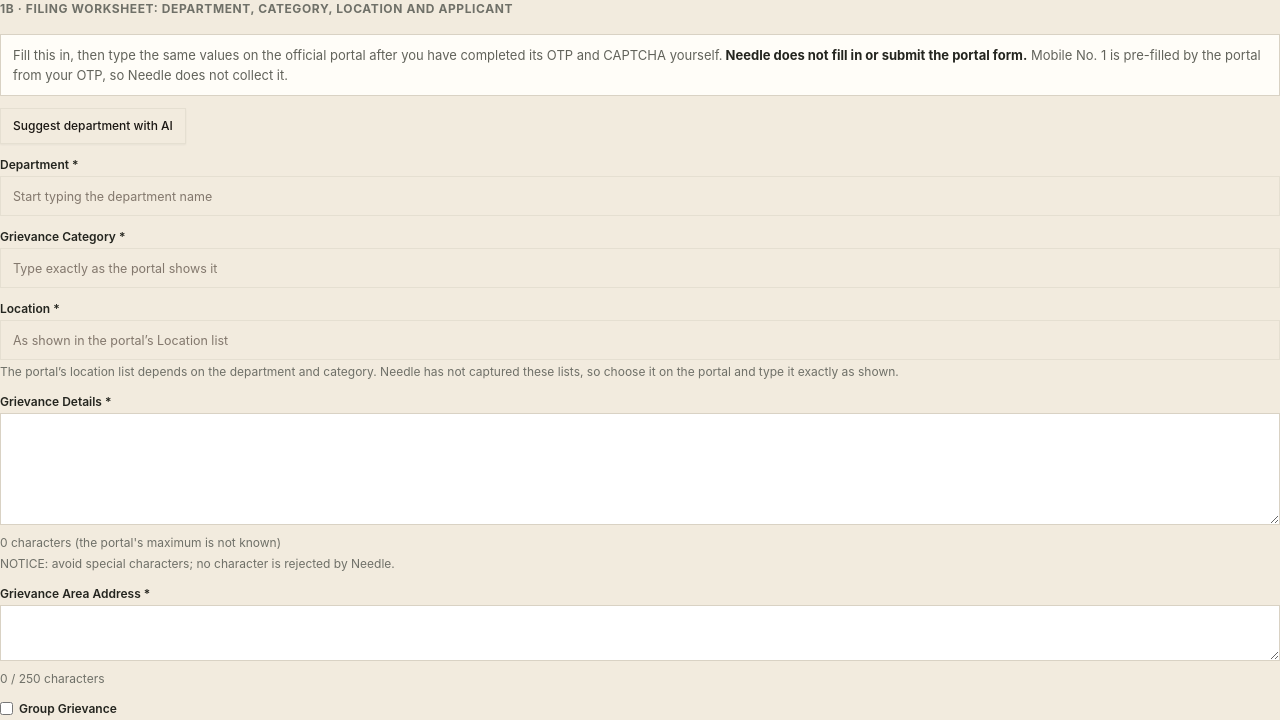
Test case: DelhiFilingWorksheet › loads the captured categories for a department and shows the escalation chain and days
In the field labelled "Department *": (640, 196) [0,176,1279,216], type "Delhi Police"
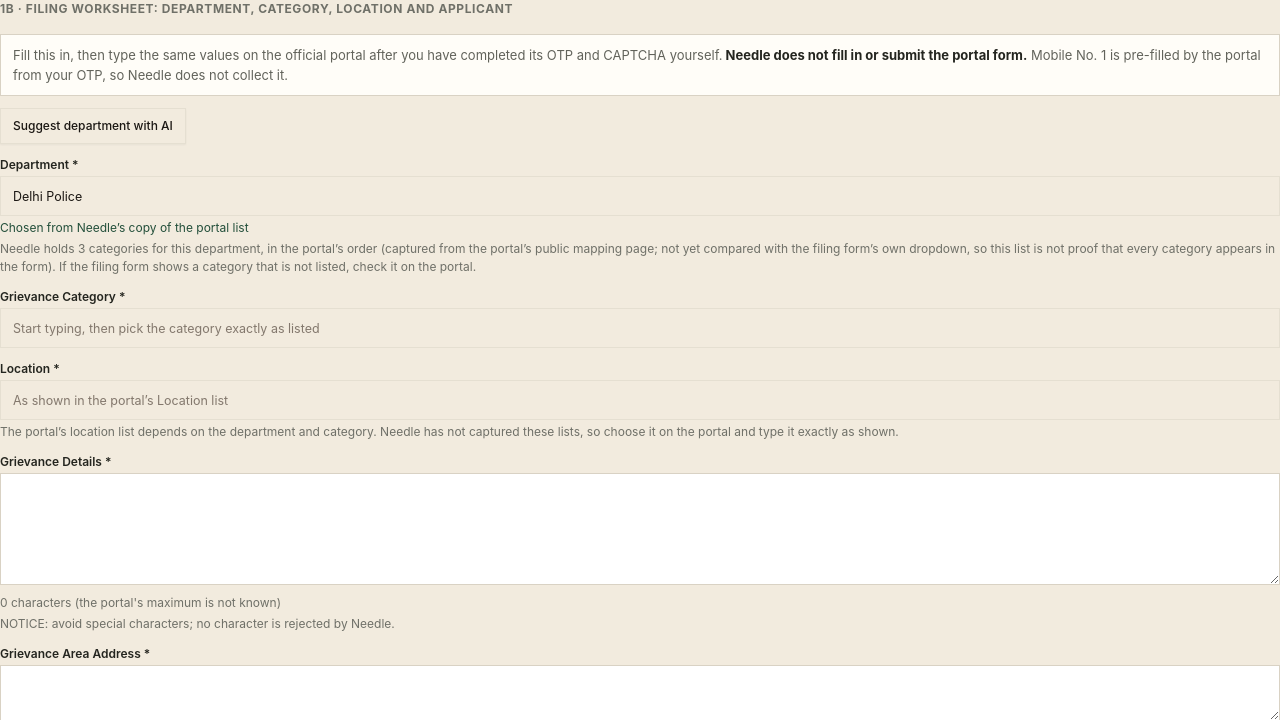
Expected: the text with test id "delhi-fw-dept-status" shows "holds 3 categories", [0,241,1275,274]
Expected: the text with test id "delhi-fw-dept-status" shows "not yet compared with the filing form", [0,241,1275,274]
In the field labelled "Grievance Category *": (640, 328) [0,308,1279,348], type "Abuse of Power"
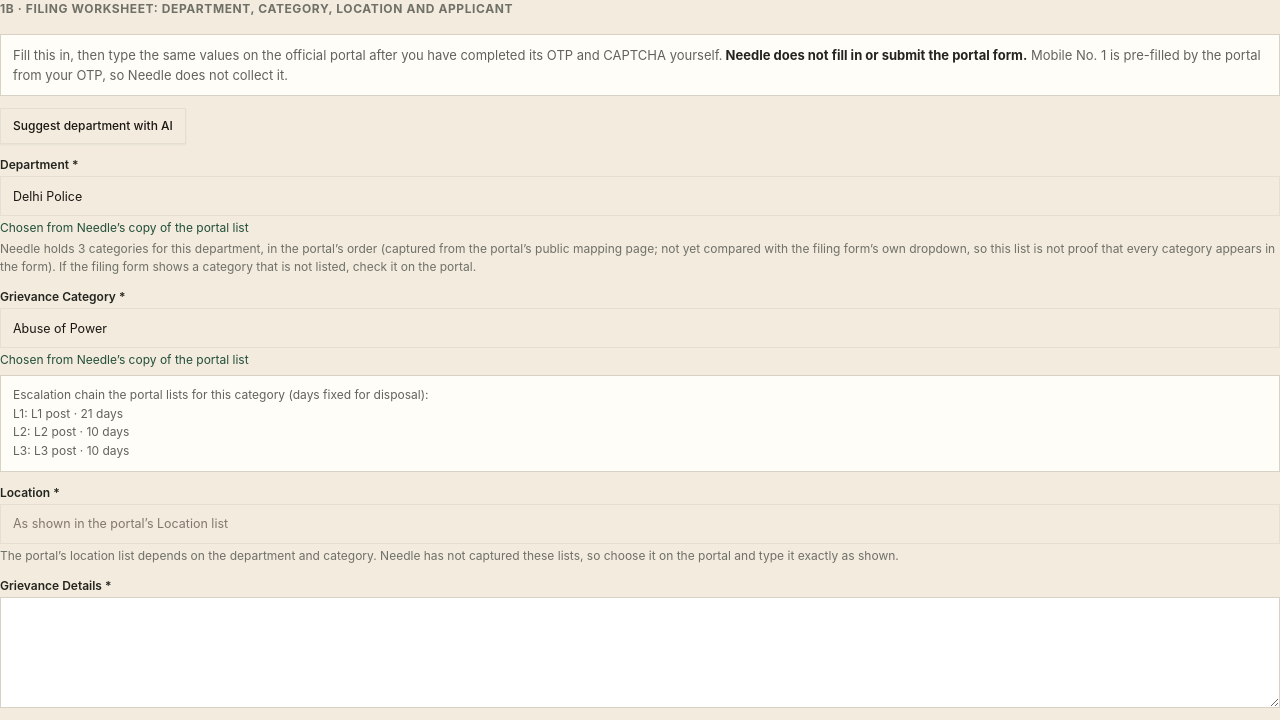
Expected: the element with test id "delhi-fw-escalation" shows "L1: L1 post · 21 days", [0,375,1279,472]
Expected: the element with test id "delhi-fw-escalation" shows "L2: L2 post · 10 days", [0,375,1279,472]
Expected: the text with test id "delhi-fw-source-category" shows "Chosen from Needle’s copy", [0,352,249,367]
